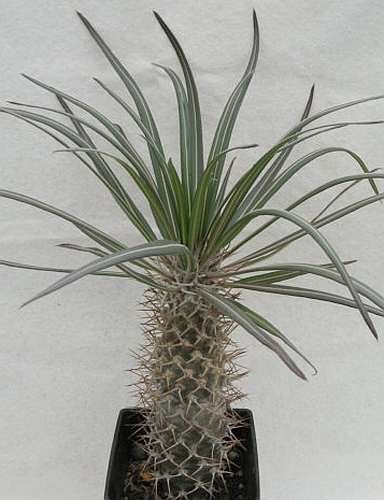Pachypodium lamerei Drake: (85, 96, 321, 494)
